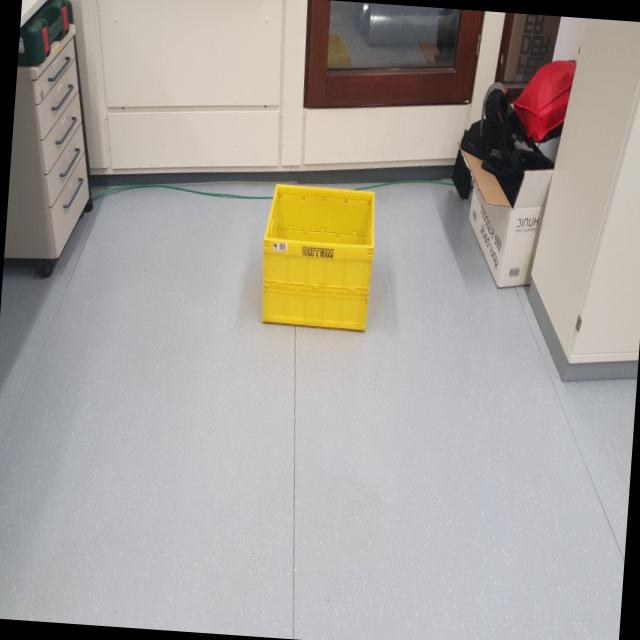box: (255, 166, 394, 364)
